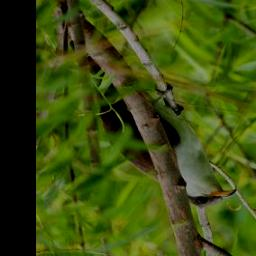Cuckoo: (58, 40, 243, 209)
